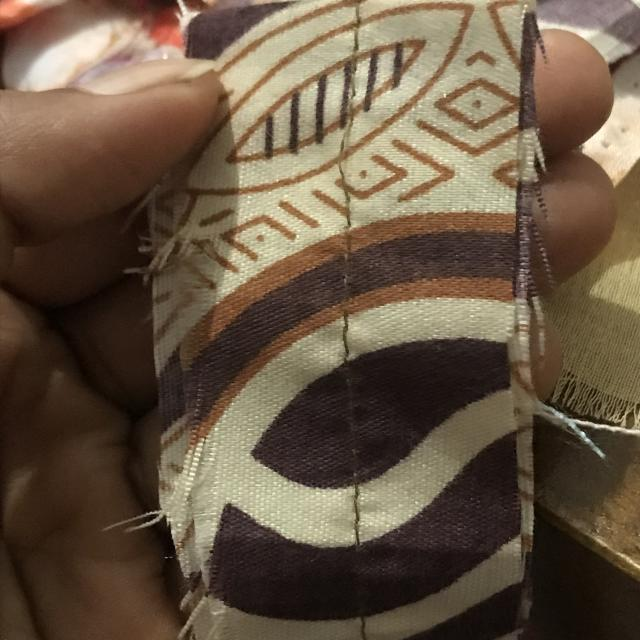skip: (327, 96, 398, 208)
